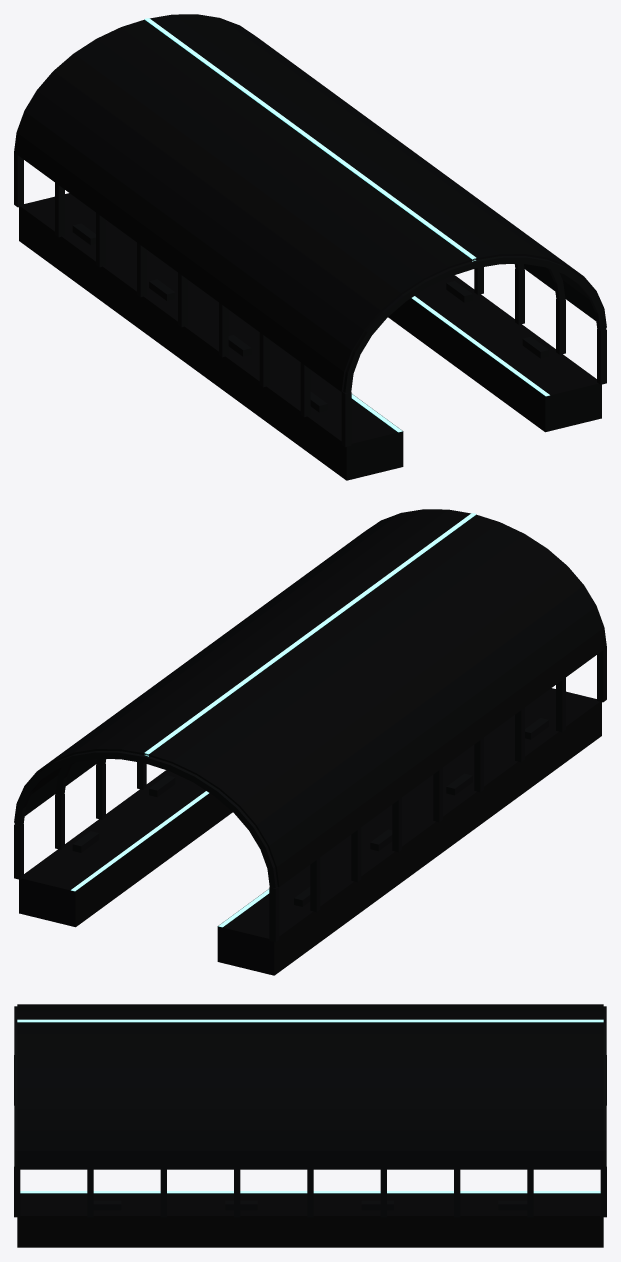
The model's file is shaddai_station_grid_v01.glb.
3 renders of one model, top to bottom at view 1: azimuth 30°, elevation 25°; view 2: azimuth 150°, elevation 25°; view 3: azimuth 270°, elevation 25°, orthographic. The views are drawn at different scales.
Visible parts, largest first — view 1: shaddai_station_grid; view 2: shaddai_station_grid; view 3: shaddai_station_grid.
Boxes of the visible parts, box(x1,y1,x2,y2) form: shaddai_station_grid: box(14, 14, 606, 480); shaddai_station_grid: box(14, 509, 606, 975); shaddai_station_grid: box(14, 1004, 606, 1247).
Size of the model in its own units: 18.71 by 12.9 by 40.44.
